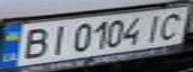0: (69, 20, 93, 53), (106, 16, 127, 48)
1: (90, 18, 112, 51)
4: (121, 13, 148, 46)
B: (12, 25, 54, 61)
C: (154, 9, 190, 40)
I: (42, 22, 72, 56), (139, 11, 169, 43)
